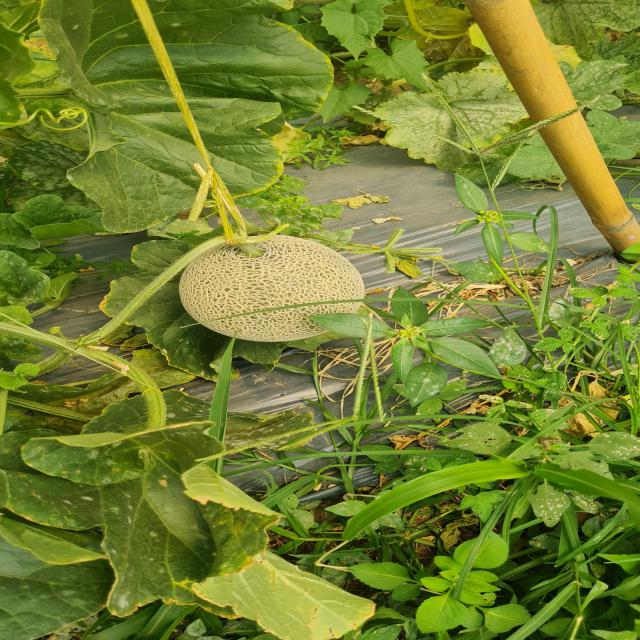melon: (178, 235, 364, 341)
